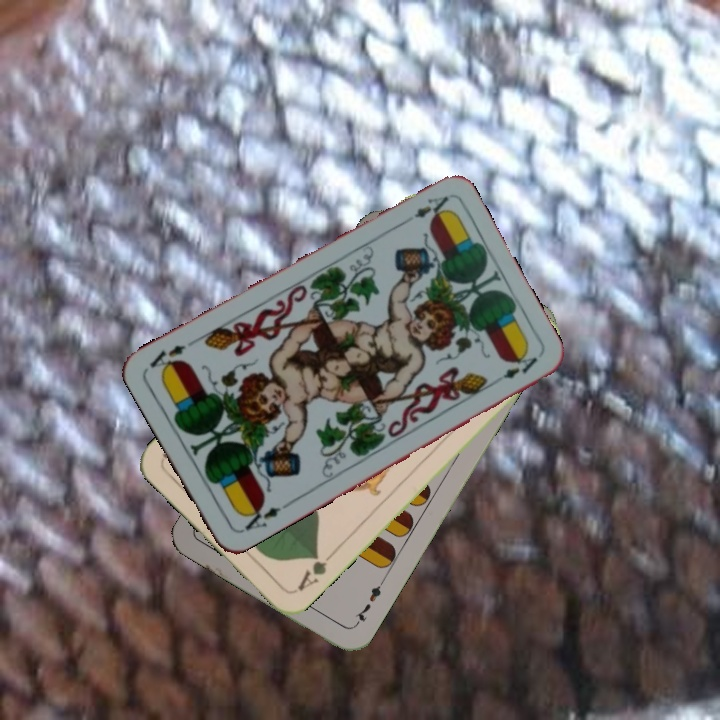E7: (350, 576, 387, 629)
EA: (237, 499, 291, 535), (397, 192, 451, 228)
GA: (293, 547, 338, 594)
